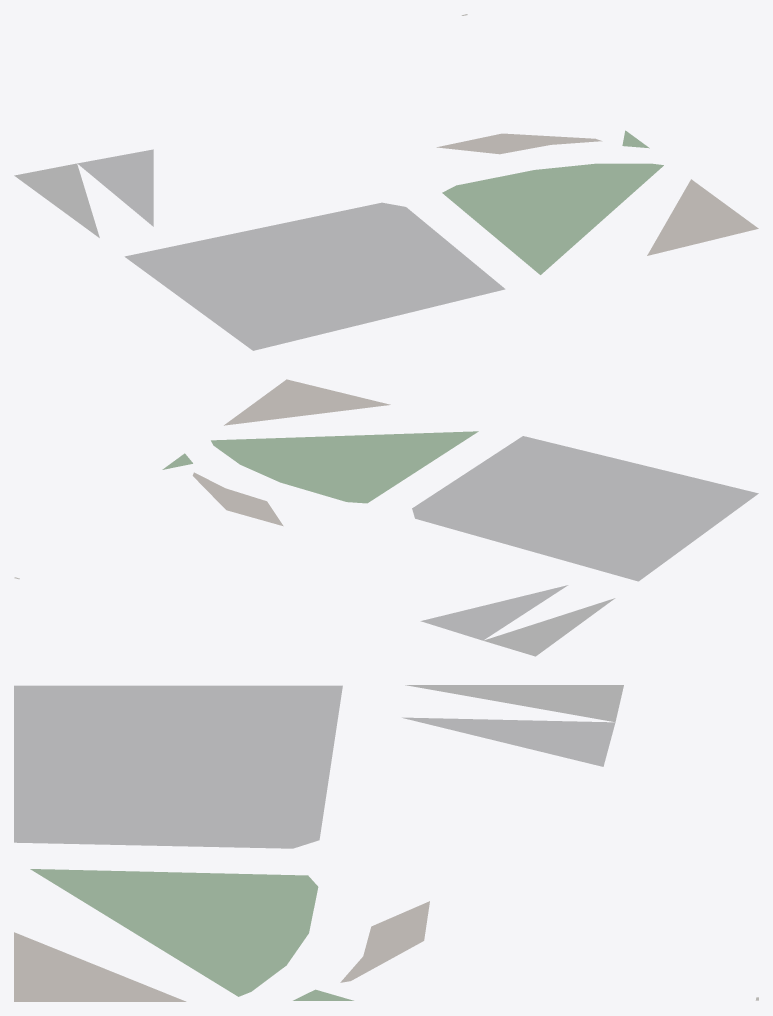
Rendered from 141_106_mid.glb.
The picture shows the model from 3 angles, top to bottom: view 1: azimuth 30°, elevation 25°; view 2: azimuth 150°, elevation 25°; view 3: azimuth 270°, elevation 25°; orthographic projection. The views are drawn at different scales.
Bounding box in the file's own units: 500 × 1.45 × 500.
